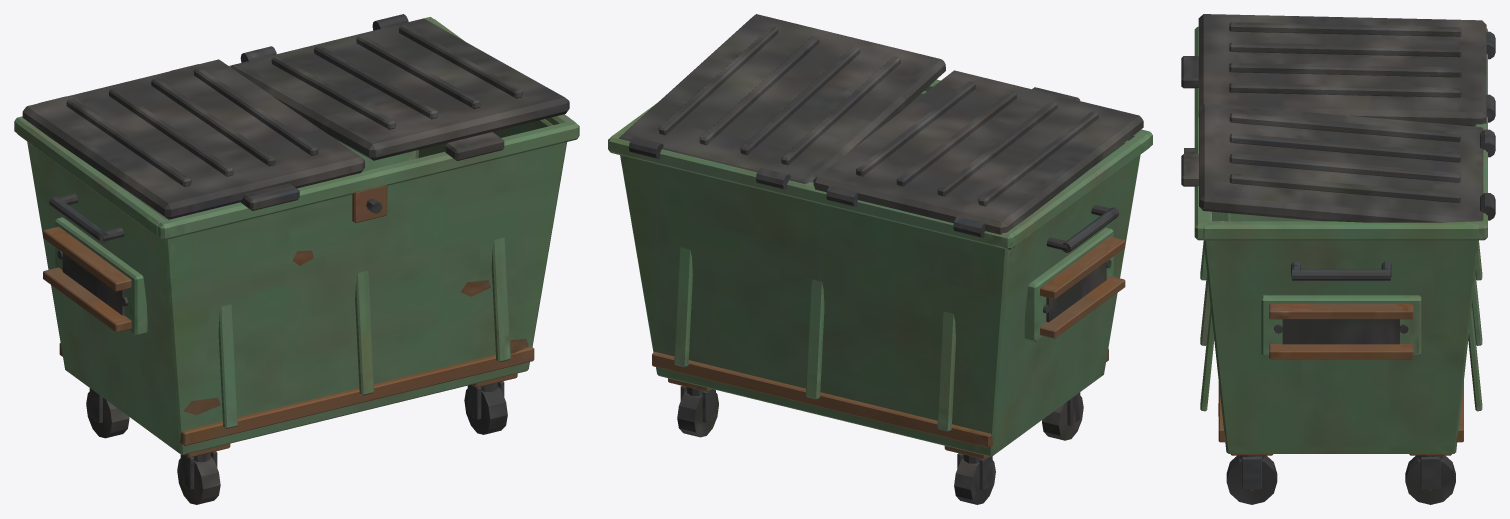
Rendered from RE15_large_dumpster.glb.
The picture shows the model from 3 angles, left to right: view 1: azimuth 30°, elevation 25°; view 2: azimuth 150°, elevation 25°; view 3: azimuth 270°, elevation 25°; orthographic projection. The views are drawn at different scales.
Parts seen in each view (by area): view 1: Dumpster tapered body; view 2: Dumpster tapered body; view 3: Dumpster tapered body.
Boxes of the visible parts, x1,y1,x2,y2 form: Dumpster tapered body: (14, 14, 579, 504); Dumpster tapered body: (608, 14, 1152, 504); Dumpster tapered body: (1181, 14, 1495, 504).
Size of the model in its own units: 1.8 by 1.33 by 1.12.
5 materials, 5 textured.
